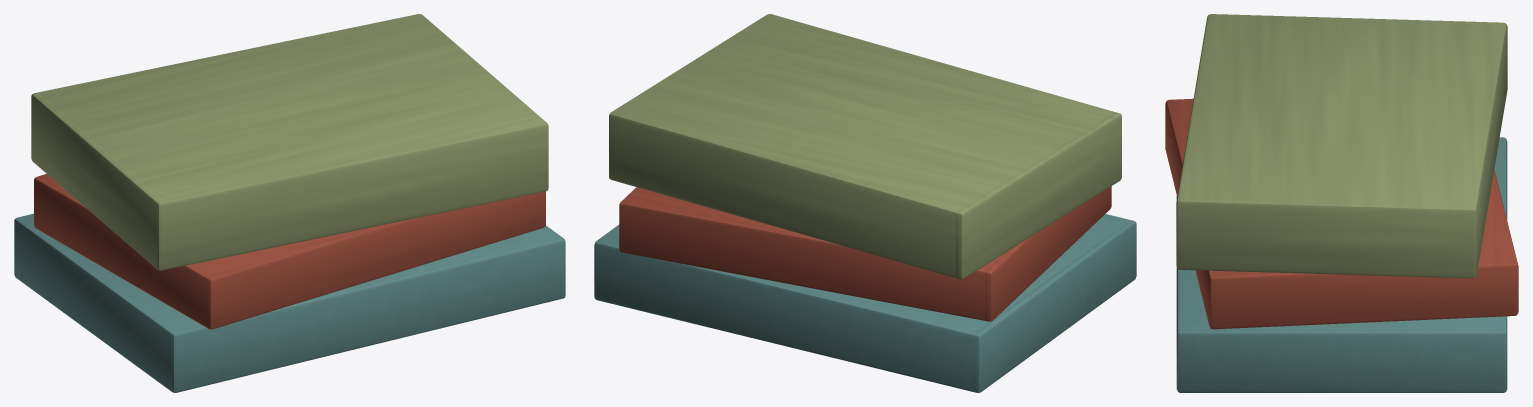
The model's file is SM_Book_Stack.fbx.
3 views of the same model, side by side, from view 1: azimuth 30°, elevation 25°; view 2: azimuth 150°, elevation 25°; view 3: azimuth 270°, elevation 25° (orthographic). The views are drawn at different scales.
Visible parts, largest first — view 1: SM_Book_Stack; view 2: SM_Book_Stack; view 3: SM_Book_Stack.
Part boxes in pixels (bbox=[...]): SM_Book_Stack: bbox=[14, 14, 565, 392]; SM_Book_Stack: bbox=[594, 14, 1136, 392]; SM_Book_Stack: bbox=[1165, 14, 1518, 392].
Size of the model in its own units: 0.24 by 0.105 by 0.1817.
4 materials, 4 textured.
